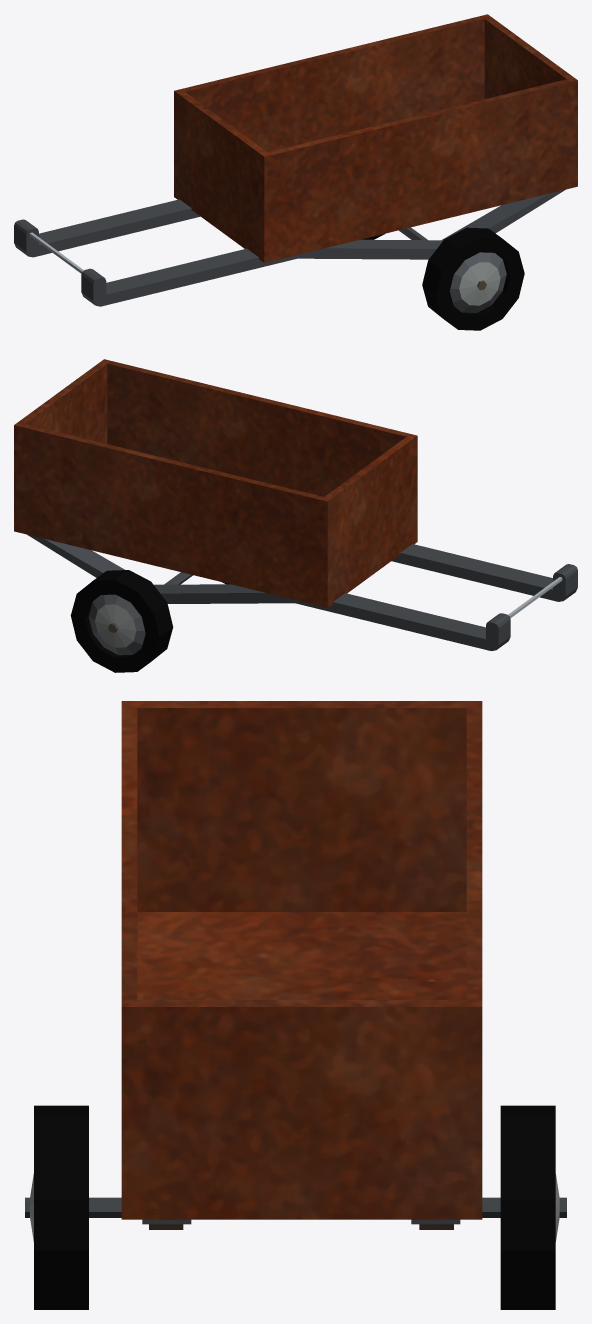
File: Garbage_Cart_01.fbx
The picture shows the model from 3 angles, top to bottom: view 1: azimuth 30°, elevation 25°; view 2: azimuth 150°, elevation 25°; view 3: azimuth 270°, elevation 25°; orthographic projection. The views are drawn at different scales.
Parts seen in each view (by area): view 1: Garbage_Cart_01, Garbage_Cart_Tire; view 2: Garbage_Cart_01, Garbage_Cart_Tire; view 3: Garbage_Cart_01, Garbage_Cart_Tire.
Boxes of the visible parts, box(x1,y1,x2,y2) form: Garbage_Cart_01: box(14, 14, 577, 306); Garbage_Cart_Tire: box(361, 227, 524, 330); Garbage_Cart_01: box(14, 359, 577, 650); Garbage_Cart_Tire: box(70, 570, 229, 672); Garbage_Cart_01: box(25, 701, 566, 1229); Garbage_Cart_Tire: box(30, 1105, 559, 1309).
Bounding box in the file's own units: 302 × 123 × 148.
